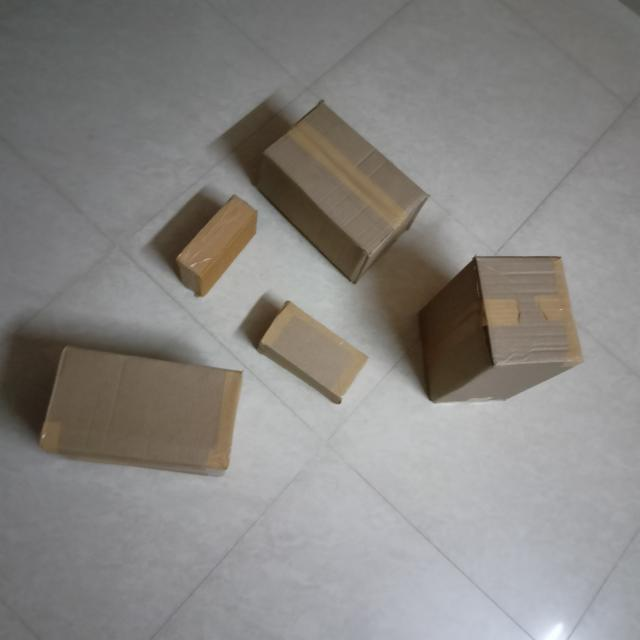box: (43, 349, 244, 469), (268, 102, 425, 253), (480, 255, 582, 367), (262, 303, 369, 401), (177, 199, 250, 280)
